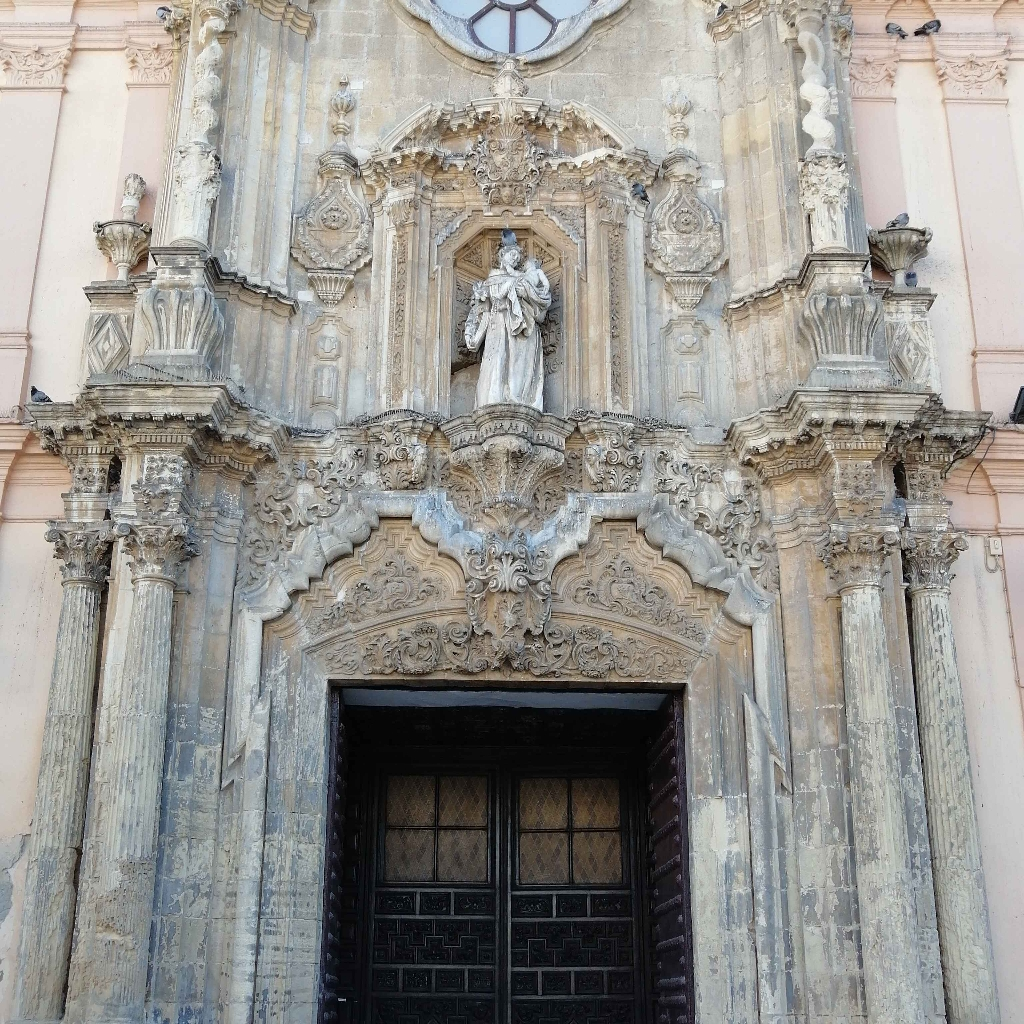columna-salomonica: (174, 7, 240, 205), (785, 5, 850, 202)
fronton-partido: (370, 102, 640, 172)
vano-adintelado: (287, 639, 717, 1024)
